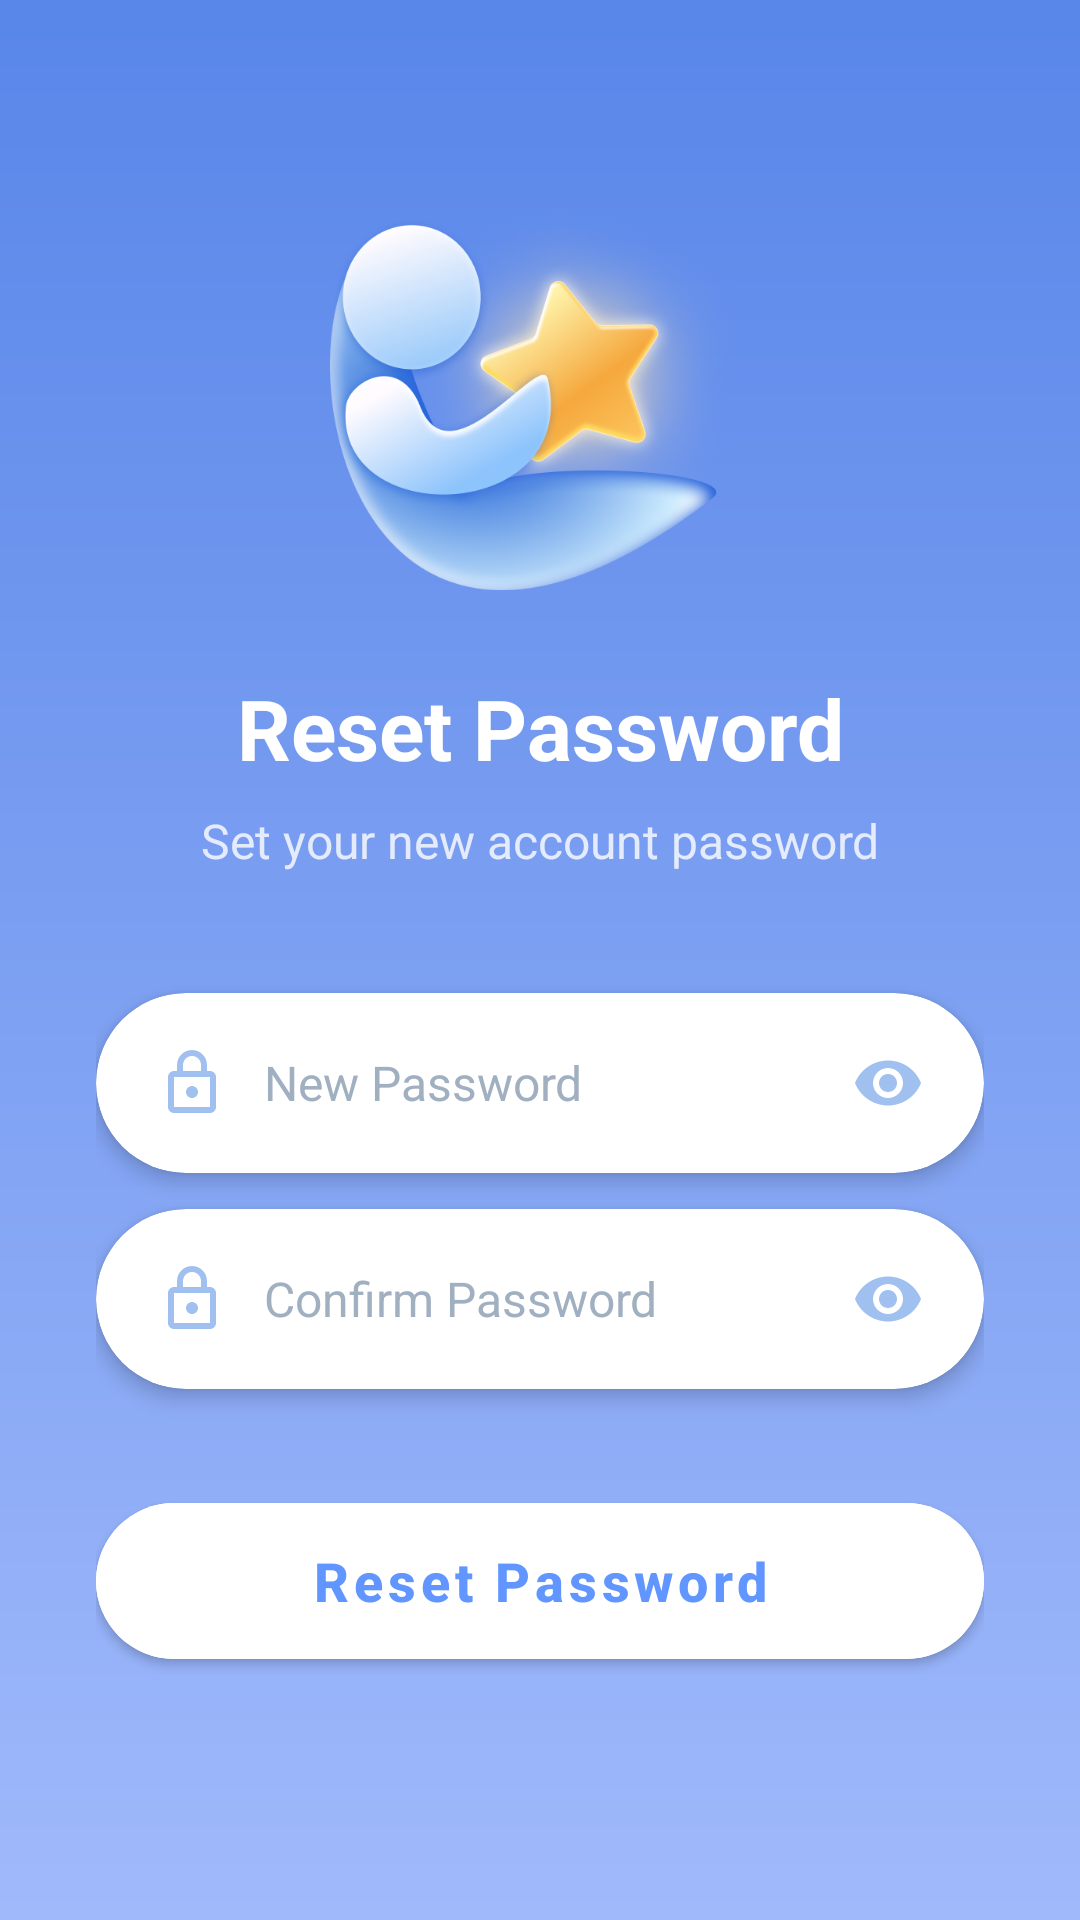

Icons on this 1080px x 1920px Android screen, each with its box as (x1, y1, x2, y2):
lock: (168, 1050, 216, 1113), (168, 1266, 216, 1329)
visibility: (855, 1060, 921, 1106), (855, 1276, 921, 1322)
